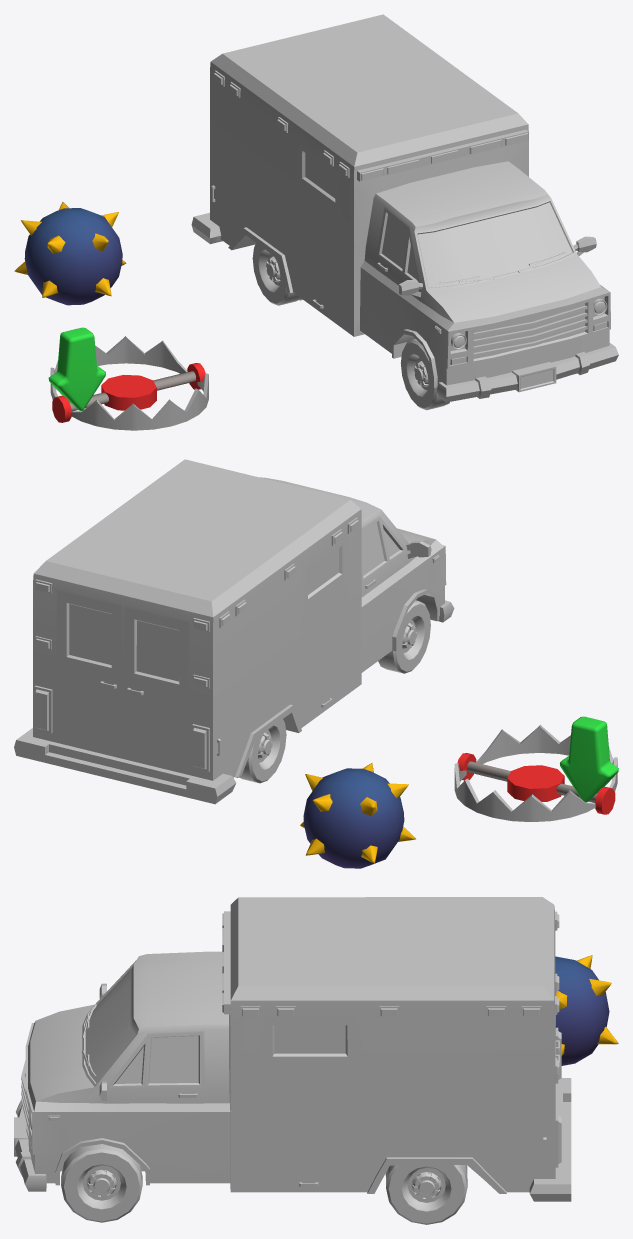
3 renders of one model, top to bottom at view 1: azimuth 30°, elevation 25°; view 2: azimuth 150°, elevation 25°; view 3: azimuth 270°, elevation 25°, orthographic. The views are drawn at different scales.
Visible parts, largest first — view 1: Car body.11, op5, Trap_Bear, Arrow, polySurface4, Car.11 left wheel, polySurface1, Car.11 left wheel.001; view 2: Car body.11, op5, Trap_Bear, Arrow, polySurface1, Car.11 left wheel, polySurface4, Car.11 left wheel.001; view 3: Car body.11, Car.11 left wheel, op5, Car.11 left wheel.001.
Part boxes in pixels (bbox=[...]): Car body.11: bbox=[191, 14, 618, 402]; op5: bbox=[14, 202, 126, 305]; Trap_Bear: bbox=[52, 363, 205, 422]; Arrow: bbox=[48, 327, 105, 410]; polySurface4: bbox=[71, 373, 208, 430]; Car.11 left wheel: bbox=[400, 339, 577, 410]; polySurface1: bbox=[50, 336, 187, 399]; Car.11 left wheel.001: bbox=[252, 243, 302, 305]; Car body.11: bbox=[14, 459, 454, 804]; op5: bbox=[300, 763, 415, 868]; Trap_Bear: bbox=[457, 753, 615, 814]; Arrow: bbox=[560, 716, 618, 802]; polySurface1: bbox=[454, 763, 595, 821]; Car.11 left wheel: bbox=[378, 600, 430, 673]; polySurface4: bbox=[476, 725, 617, 791]; Car.11 left wheel.001: bbox=[235, 719, 286, 783]; Car body.11: bbox=[14, 897, 571, 1201]; Car.11 left wheel: bbox=[61, 1144, 142, 1222]; op5: bbox=[555, 955, 618, 1065]; Car.11 left wheel.001: bbox=[385, 1165, 467, 1224].
Bounding box in the file's own units: 6.19 × 2.84 × 6.26.
